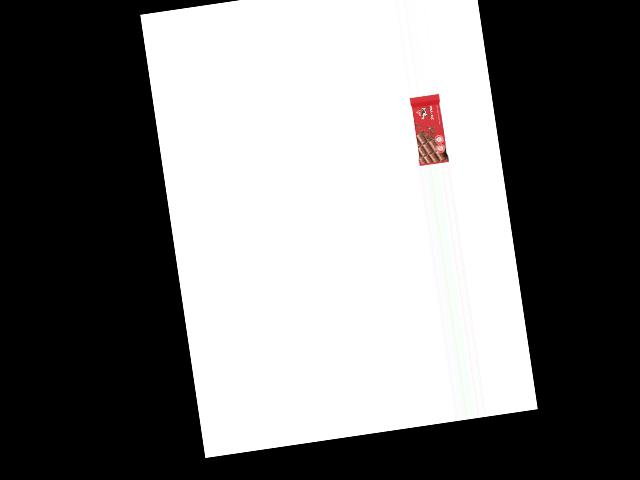chocolate: (409, 92, 449, 166)
